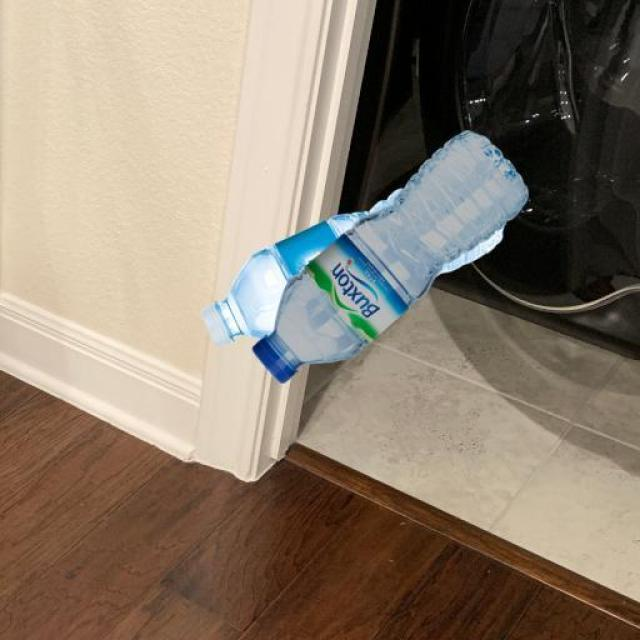bottle: (207, 150, 525, 403)
